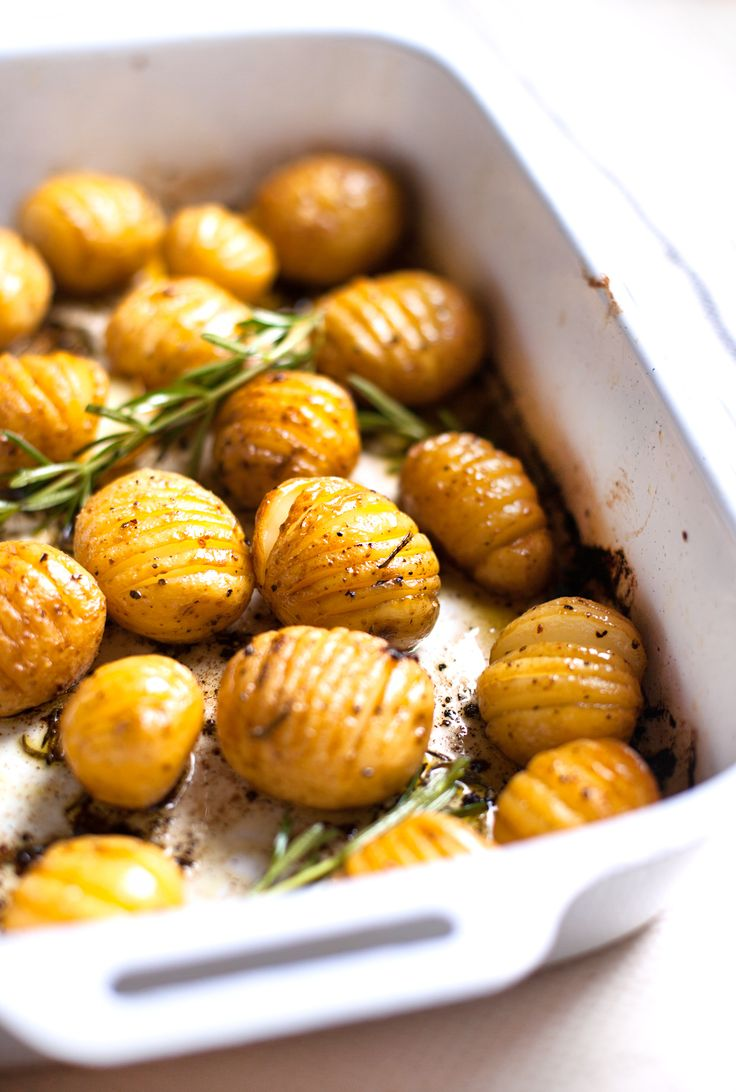boiled potatoes: (89, 479, 425, 777), (301, 271, 480, 382), (504, 603, 634, 749), (86, 279, 260, 373), (421, 431, 508, 606), (230, 345, 339, 469), (51, 173, 156, 273)
